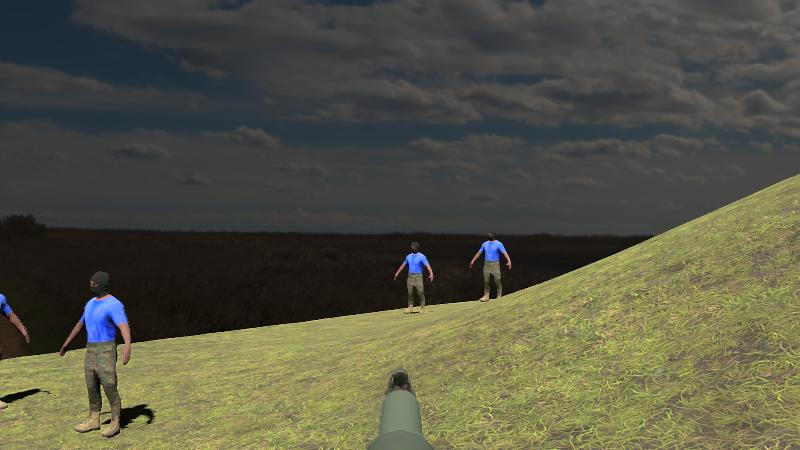Human: (60, 268, 131, 439), (0, 263, 30, 414), (470, 230, 512, 304), (395, 240, 434, 316)
